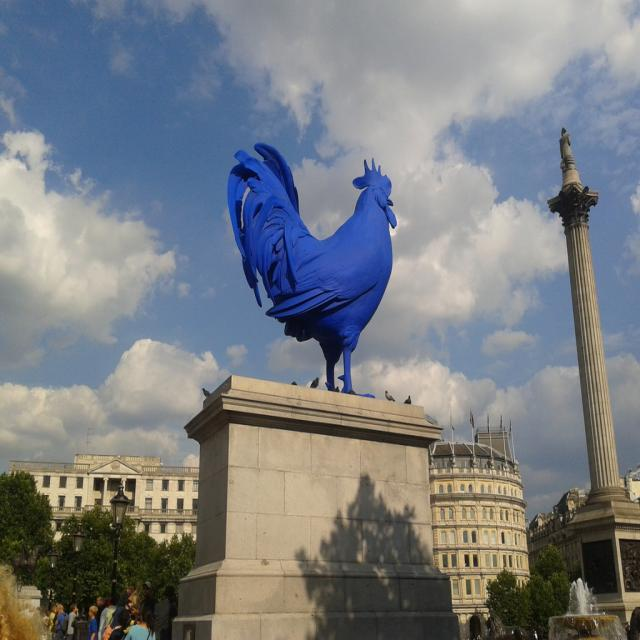Chicken: (230, 135, 404, 400)
